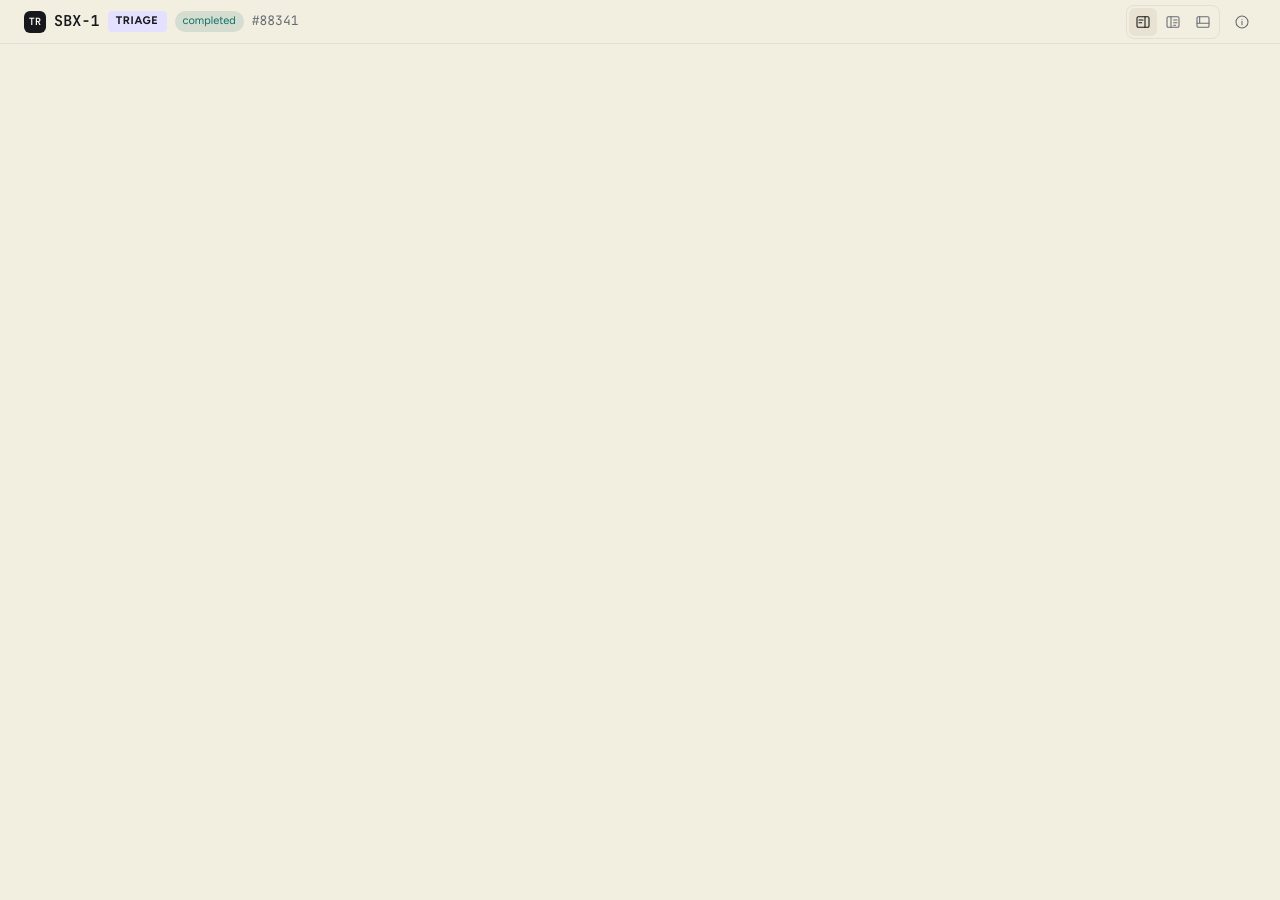
Scenario: RunHeader › offers the run folder as a path to copy when the shell cannot open it
Click the button named "About this run". click: (1242, 22)
box: top-left (1228, 8), bottom-right (1256, 36)
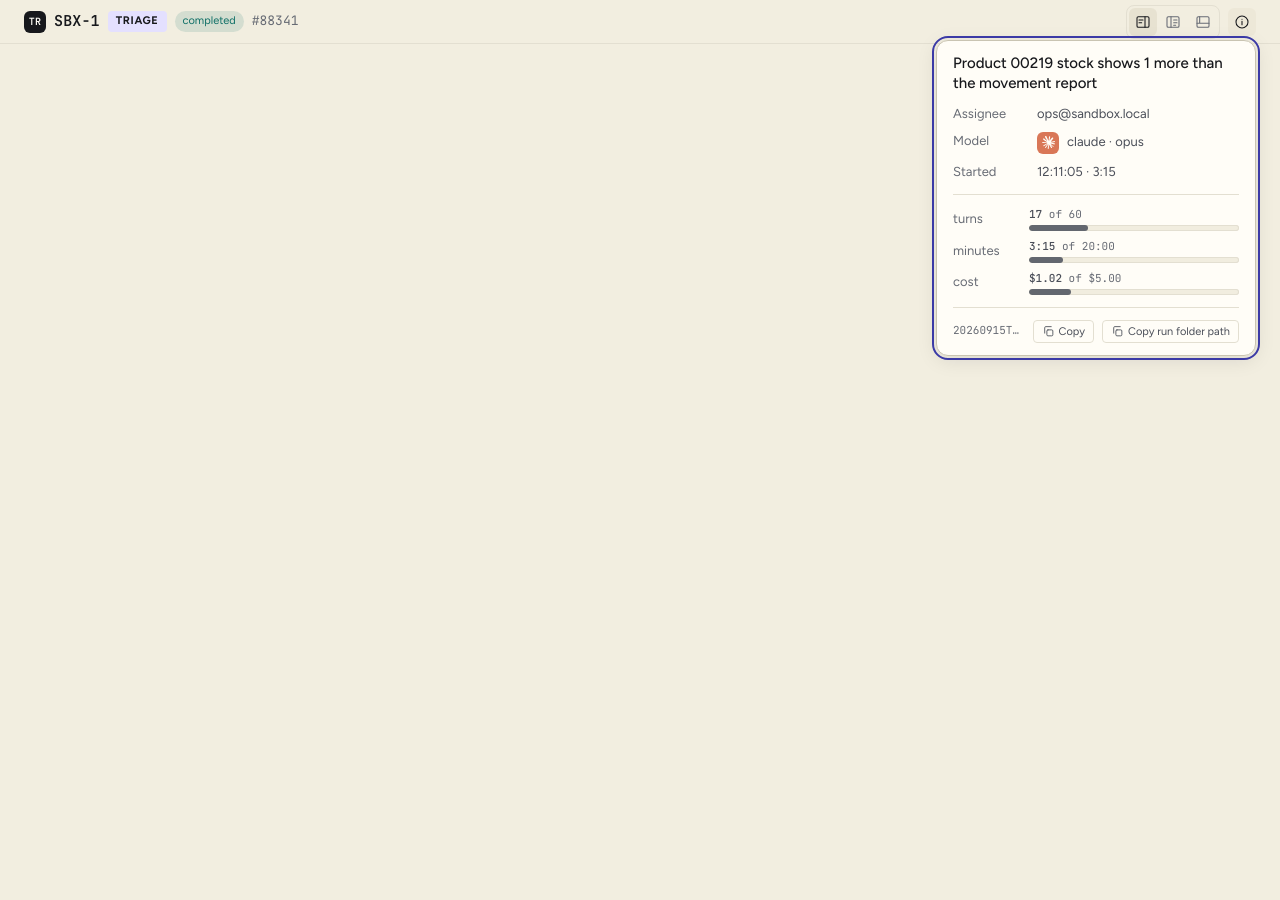
Click the button "Copy run folder path". click: (1170, 331)
box: top-left (1102, 320), bottom-right (1239, 343)
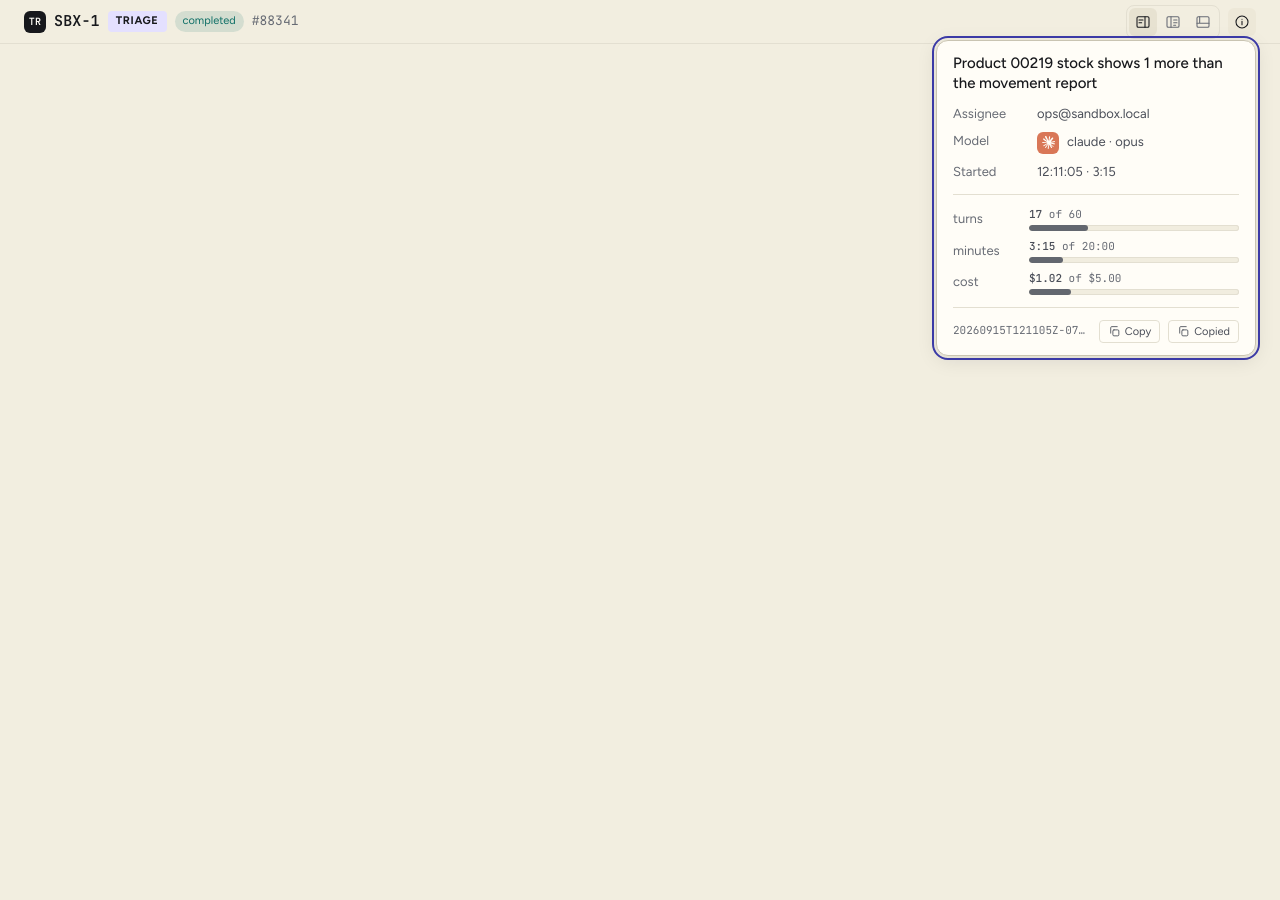
Expected: the button with aria-label "Copy run folder path" reads "Copied", top-left (1168, 320), bottom-right (1239, 343)
